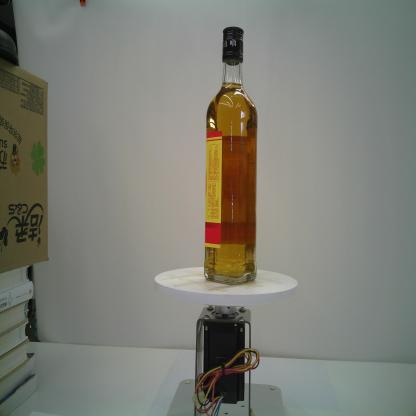Seasoner: (202, 24, 258, 288)
